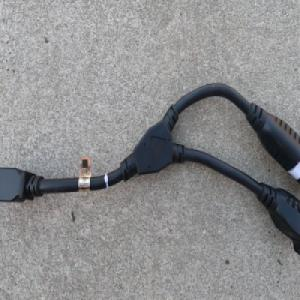Wire: (0, 81, 300, 254)
